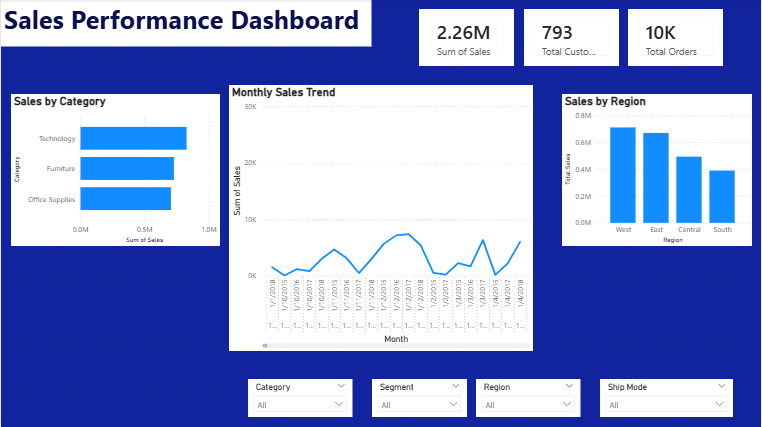

What the dashboard file says about the page in this screenshot:
{"tool":"powerbi","page":{"name":"Overview","canvas":[1280,720],"ordinal":0},"visuals":[{"type":"cardVisual","fields":{"Data":["Sum(train.Sales)"]},"box":[704,16,160,96],"z":0},{"type":"cardVisual","fields":{"Data":["train.Total Orders"]},"box":[1056,16,160,96],"z":1000},{"type":"cardVisual","fields":{"Data":["train.Total Customers"]},"box":[880,16,160,96],"z":2000},{"type":"lineChart","title":"Monthly Sales Trend","fields":{"Category":["train.Order Date","train.Month"],"Y":["Sum(train.Sales)"]},"box":[384,144,512,448],"z":3000},{"type":"barChart","title":"Sales by Category","fields":{"Category":["train.Category"],"Y":["Sum(train.Sales)"]},"box":[16,160,352,256],"z":4000},{"type":"columnChart","title":"Sales by Region","fields":{"Category":["train.Region"],"Y":["train.Total Sales"]},"box":[944,160,320,256],"z":5000},{"type":"slicer","fields":{"Values":["train.Category"]},"box":[416,640,176,64],"z":6000},{"type":"slicer","fields":{"Values":["train.Segment"]},"box":[624,640,160,64],"z":7000},{"type":"slicer","fields":{"Values":["train.Region"]},"box":[800,640,176,64],"z":8000},{"type":"slicer","fields":{"Values":["train.Ship Mode"]},"box":[1008,640,224,64],"z":9000},{"type":"textbox","box":[0,0,624,80],"z":10000}]}

Visuals, with their boxes in screenshot pixels (x1, y1, x2, y2), scaled from the page's 1280x720 canvas onto the 762x427 screenshot:
cardVisual - Sum(train.Sales): bbox=[419, 9, 514, 66]
cardVisual - train.Total Orders: bbox=[629, 9, 724, 66]
cardVisual - train.Total Customers: bbox=[524, 9, 619, 66]
"Monthly Sales Trend" lineChart: bbox=[229, 85, 533, 351]
"Sales by Category" barChart: bbox=[10, 95, 219, 247]
"Sales by Region" columnChart: bbox=[562, 95, 752, 247]
slicer - train.Category: bbox=[248, 380, 352, 418]
slicer - train.Segment: bbox=[371, 380, 467, 418]
slicer - train.Region: bbox=[476, 380, 581, 418]
slicer - train.Ship Mode: bbox=[600, 380, 733, 418]
textbox: bbox=[0, 0, 371, 47]
